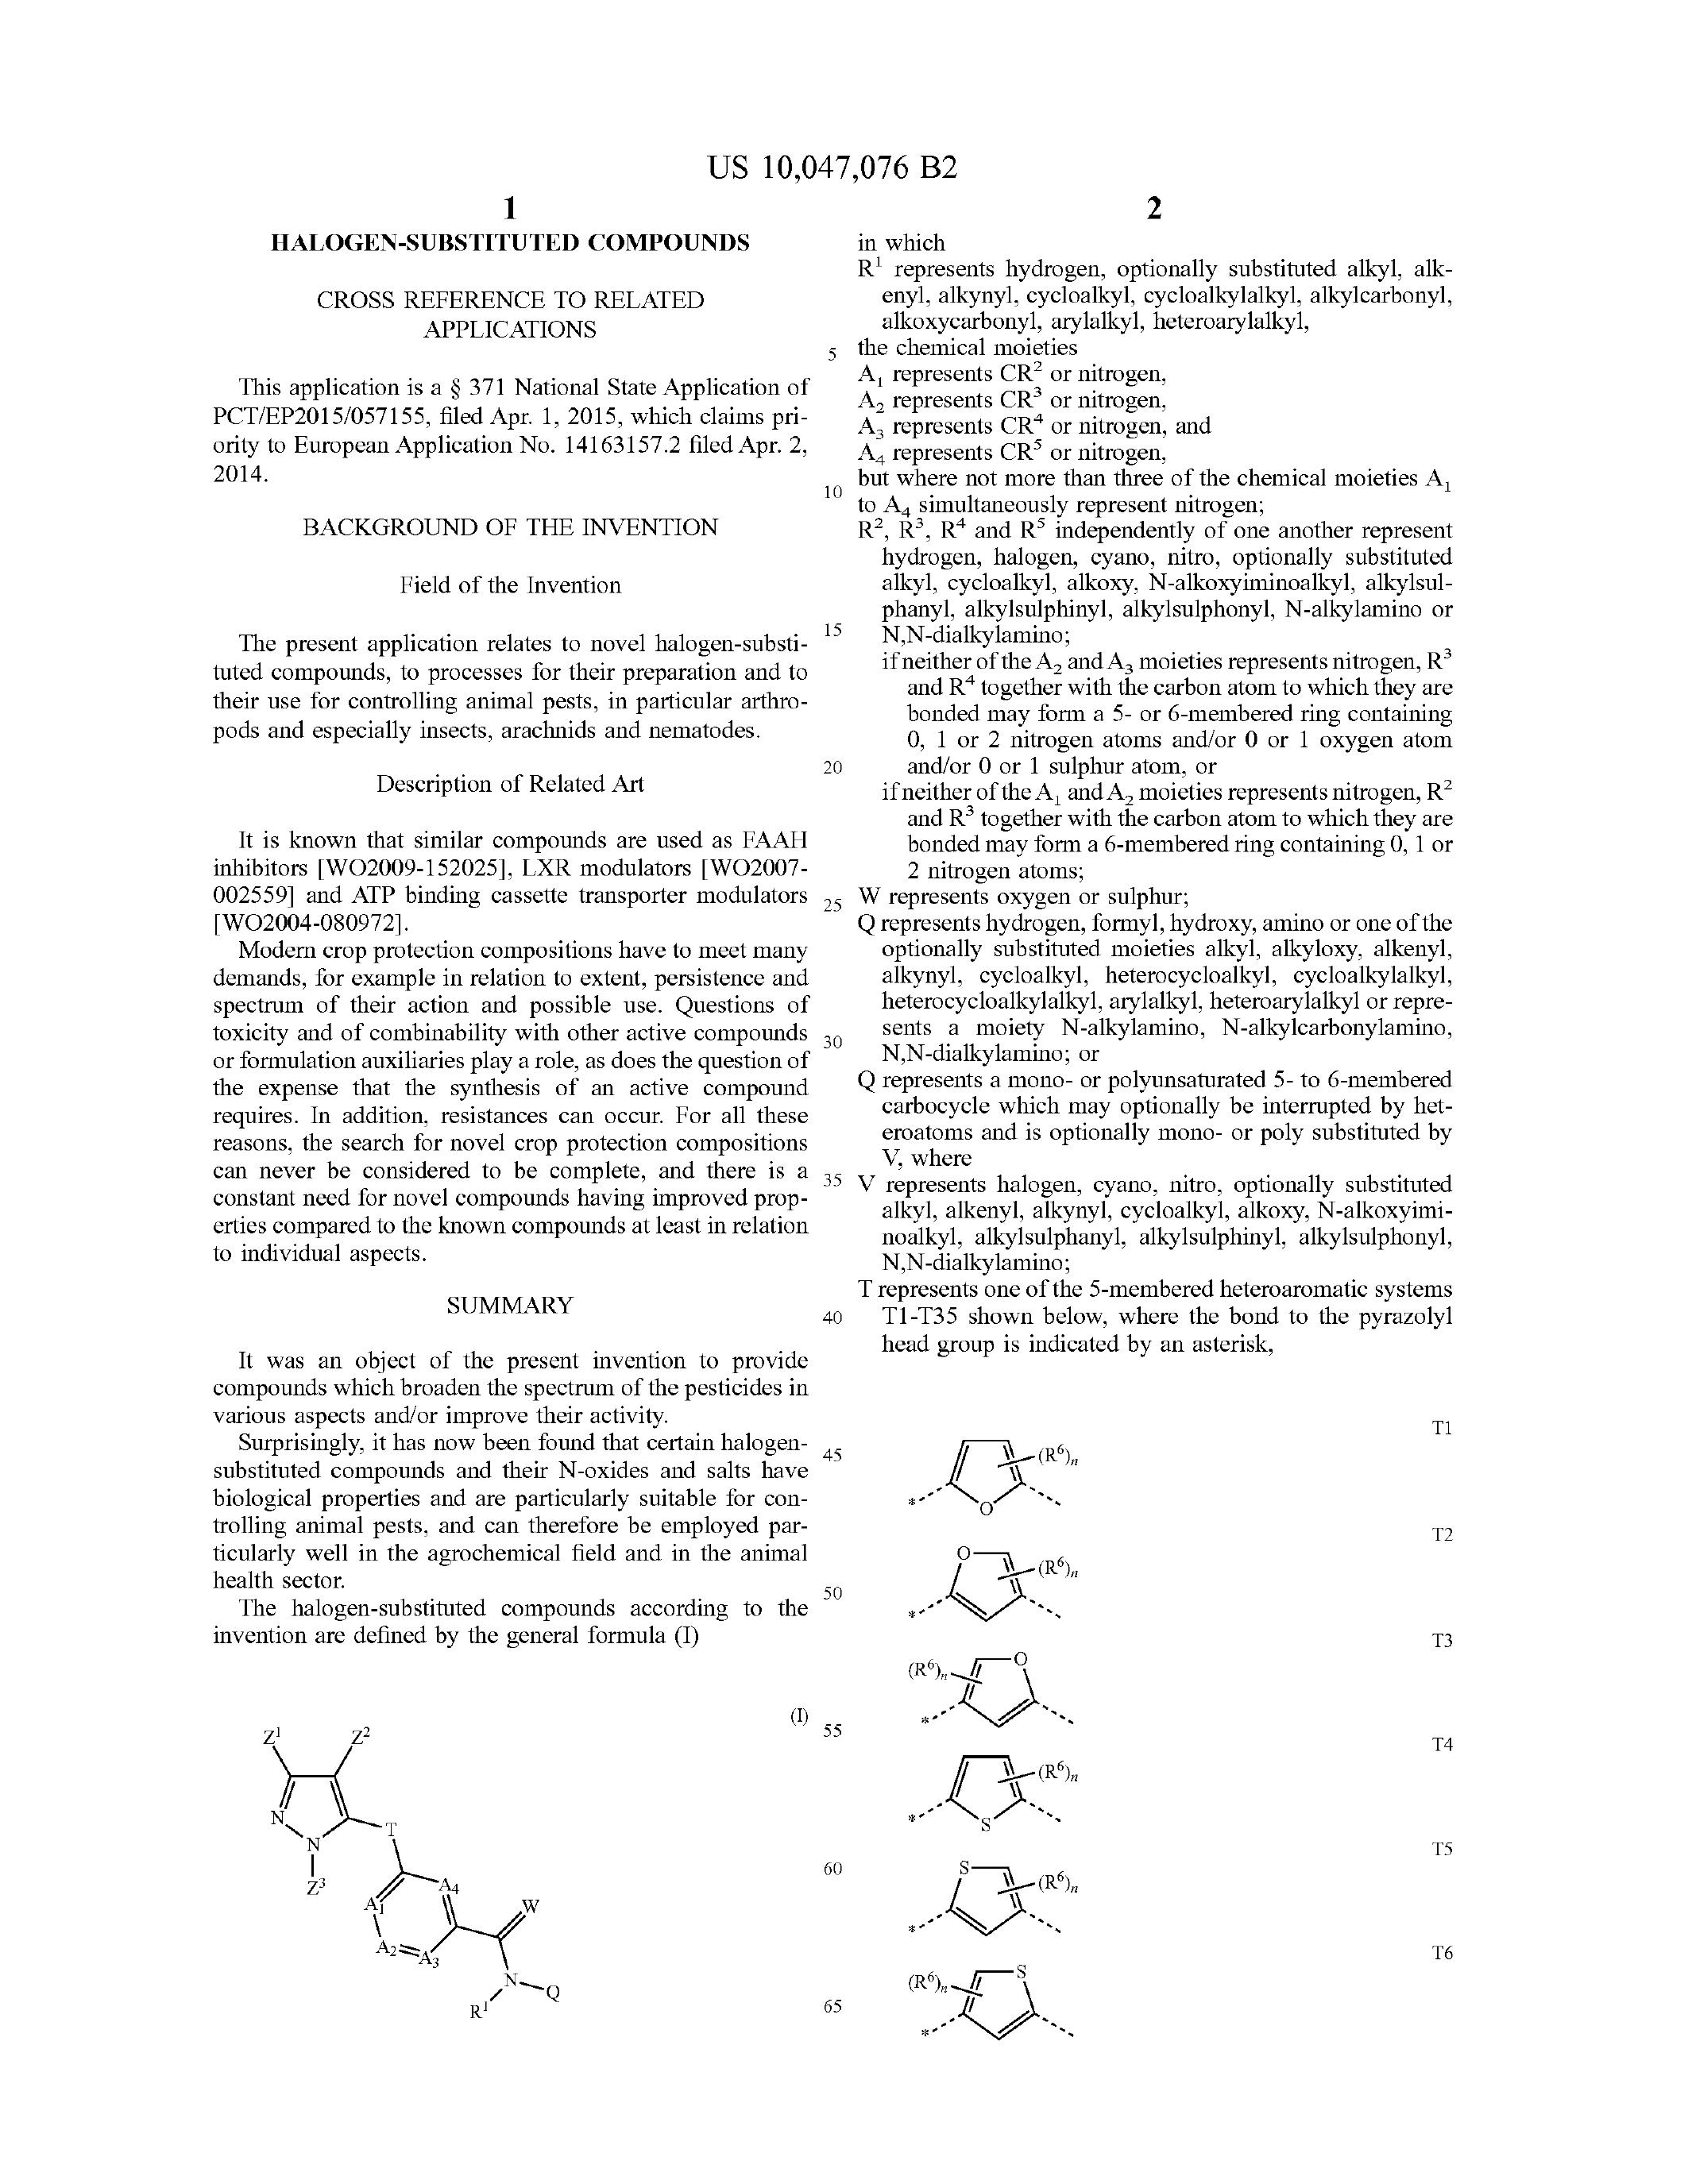markush-structures: (181, 1688, 638, 2039)
substitutes: (878, 1393, 1192, 2042)
